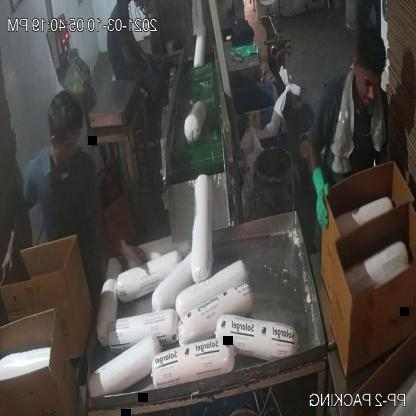glove: (308, 154, 332, 240)
no_glove: (82, 200, 157, 280), (0, 198, 31, 292), (118, 38, 153, 78)
